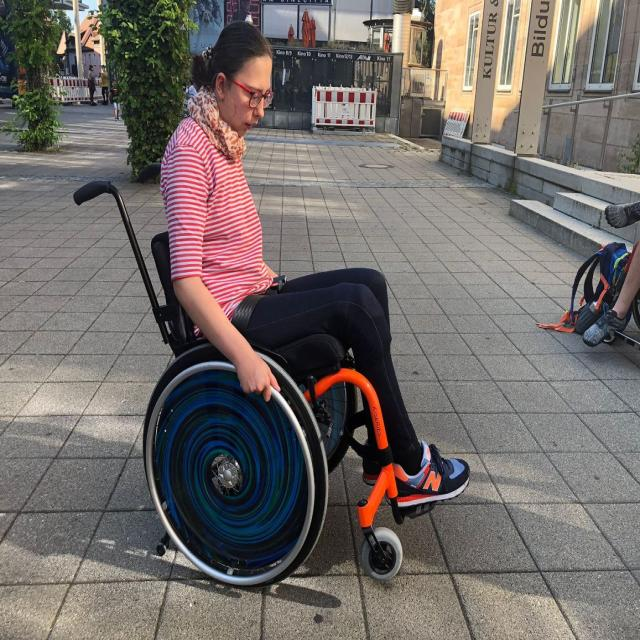wheelchairs: (119, 218, 451, 604)
